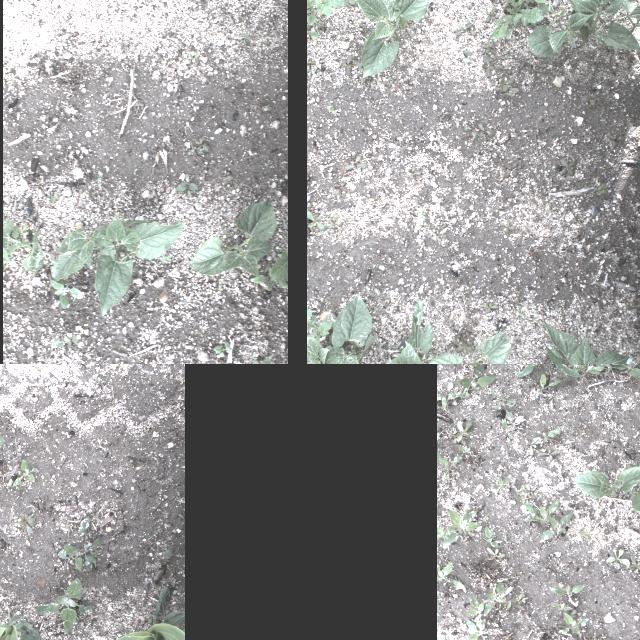crop: (50, 212, 184, 316), (17, 584, 184, 640), (187, 198, 276, 276), (350, 0, 427, 74), (375, 296, 457, 364), (306, 293, 372, 364), (526, 0, 592, 62), (542, 319, 628, 364), (574, 0, 640, 50), (430, 333, 510, 364), (572, 465, 640, 498), (2, 219, 44, 271), (268, 219, 288, 281)
weed: (36, 578, 92, 632), (56, 516, 102, 572), (490, 0, 556, 39), (306, 0, 349, 40), (442, 508, 482, 548), (458, 364, 494, 397), (537, 512, 573, 544), (306, 301, 332, 341), (248, 266, 288, 290), (49, 279, 82, 307), (524, 497, 558, 523), (436, 452, 462, 486), (511, 301, 543, 327), (515, 364, 578, 377), (482, 582, 506, 616), (436, 561, 464, 589), (464, 591, 484, 629), (12, 458, 38, 486), (436, 380, 462, 408), (492, 394, 516, 422), (558, 612, 588, 634), (513, 489, 535, 516), (176, 172, 198, 196), (10, 512, 34, 534), (605, 546, 629, 566), (51, 334, 81, 348), (530, 428, 560, 442), (306, 209, 324, 231), (484, 525, 502, 547), (538, 373, 560, 391), (340, 52, 354, 80), (487, 473, 511, 489), (558, 157, 578, 176), (465, 618, 482, 640), (482, 51, 496, 77), (565, 364, 598, 375), (454, 420, 472, 440), (610, 364, 640, 376), (343, 155, 365, 171), (550, 584, 584, 594), (576, 526, 600, 540), (587, 288, 603, 308), (456, 20, 476, 36), (606, 125, 618, 151), (480, 297, 502, 311), (581, 90, 603, 104), (538, 446, 560, 460), (326, 212, 342, 230), (504, 158, 518, 178), (485, 546, 505, 560), (476, 121, 492, 137), (213, 342, 231, 356), (524, 437, 538, 455), (625, 298, 640, 314), (550, 602, 570, 614), (501, 418, 513, 438), (564, 274, 580, 288), (584, 56, 600, 70), (592, 364, 627, 370), (499, 85, 519, 95), (455, 328, 473, 339), (464, 124, 478, 138), (409, 161, 421, 177), (630, 552, 640, 571), (594, 182, 608, 195), (501, 60, 514, 74), (481, 42, 499, 52), (241, 358, 270, 364), (458, 300, 470, 314), (524, 484, 536, 498), (357, 71, 368, 85), (324, 103, 336, 115), (484, 10, 496, 22), (467, 454, 479, 466), (456, 288, 470, 298), (457, 343, 471, 353), (306, 56, 316, 70), (508, 592, 522, 602), (464, 503, 478, 513), (499, 75, 515, 83), (444, 338, 458, 347), (463, 49, 472, 63), (442, 313, 452, 325), (502, 221, 512, 233), (547, 193, 557, 205), (436, 108, 446, 120), (564, 608, 576, 618), (449, 430, 459, 442), (436, 526, 444, 540), (418, 207, 427, 219), (528, 249, 538, 259), (362, 32, 372, 42), (630, 340, 638, 352), (502, 600, 510, 612), (496, 51, 506, 60), (347, 0, 356, 9), (602, 532, 612, 540), (312, 62, 318, 74), (356, 56, 362, 68), (574, 73, 578, 89), (306, 200, 314, 208), (457, 446, 467, 452), (432, 222, 440, 228), (627, 463, 637, 467), (503, 534, 505, 540)
